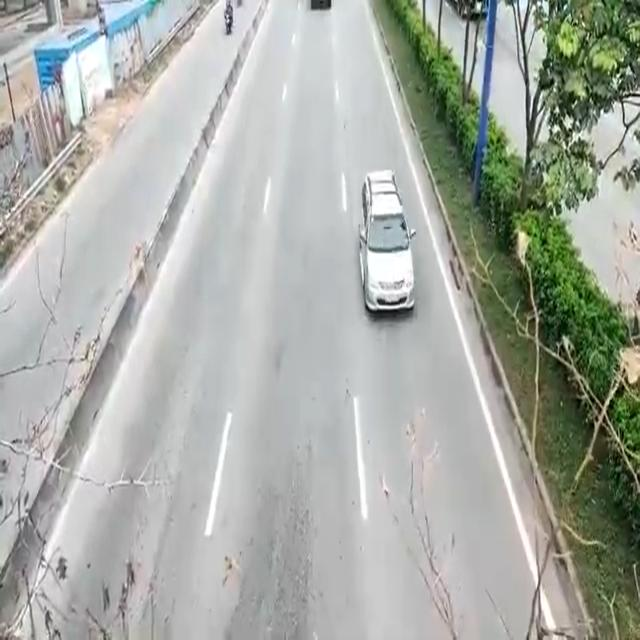car: (356, 173, 418, 319)
